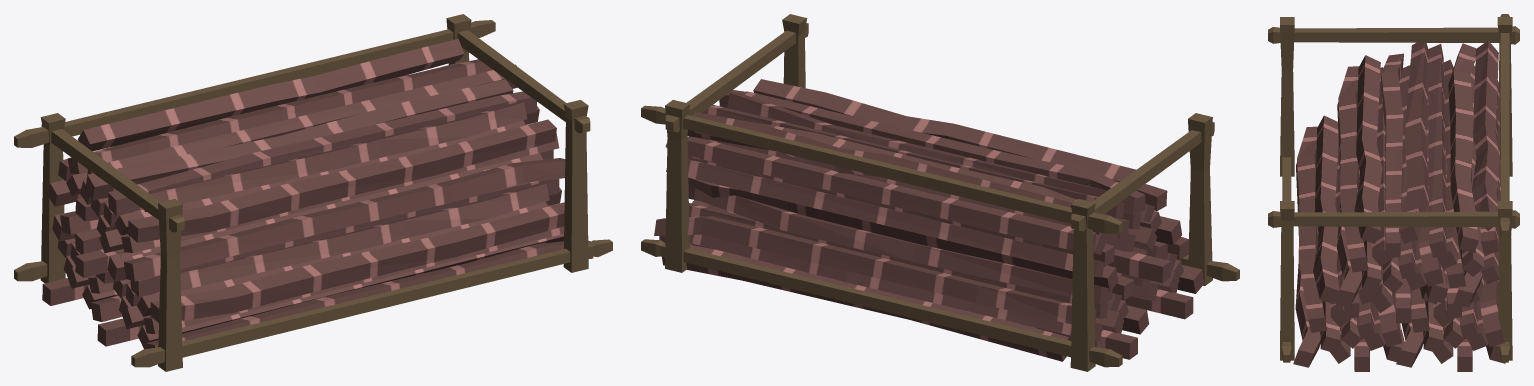
Rendered from SM_Prop_SugarCane_Holder_02.glb.
3 renders of one model, left to right at view 1: azimuth 30°, elevation 25°; view 2: azimuth 150°, elevation 25°; view 3: azimuth 270°, elevation 25°, orthographic. The views are drawn at different scales.
Parts seen in each view (by area): view 1: SM_Prop_SugarCane_Holder_02_part00; view 2: SM_Prop_SugarCane_Holder_02_part00; view 3: SM_Prop_SugarCane_Holder_02_part00.
Part boxes in pixels (x1,y1,x2,y2): SM_Prop_SugarCane_Holder_02_part00: (14,14,612,371); SM_Prop_SugarCane_Holder_02_part00: (641,14,1239,371); SM_Prop_SugarCane_Holder_02_part00: (1268,14,1519,371).
Size of the model in its own units: 2.08 by 0.6876 by 1.02.
Materials: 1 (1 with a texture image).
